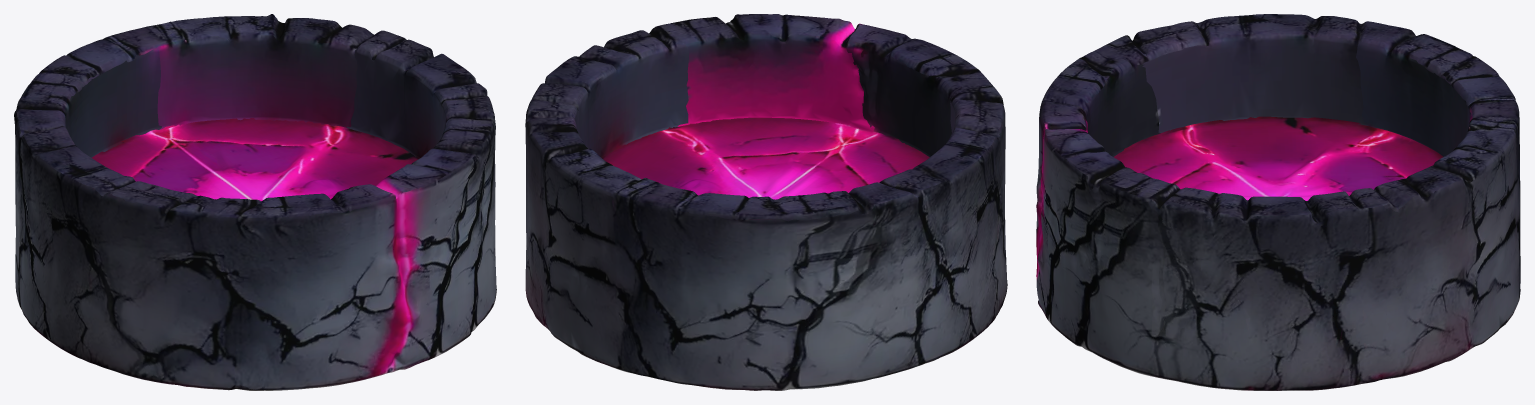
File: hvergelmir-basin-pool-generated-2026-05-17T18-13-31-696Z.medium.glb
The picture shows the model from 3 angles, left to right: view 1: azimuth 30°, elevation 25°; view 2: azimuth 150°, elevation 25°; view 3: azimuth 270°, elevation 25°; orthographic projection.
Visible parts, largest first — view 1: temp_mesh.ply; view 2: temp_mesh.ply; view 3: temp_mesh.ply.
Part boxes in pixels (x1,y1,x2,y2): temp_mesh.ply: [14, 14, 496, 390]; temp_mesh.ply: [525, 14, 1007, 390]; temp_mesh.ply: [1036, 14, 1520, 390].
Bounding box in the file's own units: 1.97 × 0.8098 × 1.97.
1 material, 1 textured.
